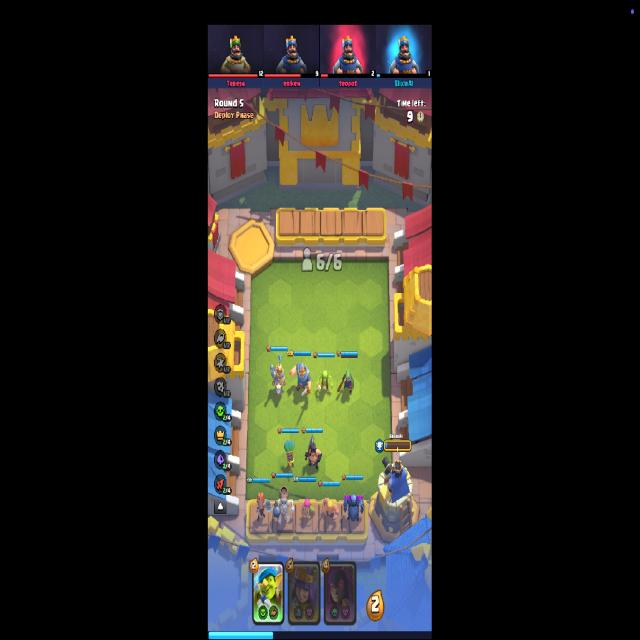archer: (300, 498, 317, 523)
bandit: (338, 369, 354, 395)
barbarian: (318, 497, 339, 524)
card_archer_queen: (288, 561, 320, 626)
card_spear_goblin: (252, 560, 284, 624)
card_witch: (324, 560, 356, 626)
dart_goblin: (284, 439, 295, 474)
executioner: (304, 435, 322, 474)
giant_skeleton: (274, 487, 294, 527)
goblin: (316, 370, 334, 396)
knight: (290, 362, 312, 398)
pekka: (341, 492, 365, 527)
prince: (270, 354, 287, 398)
valkyrie: (256, 490, 272, 523)
